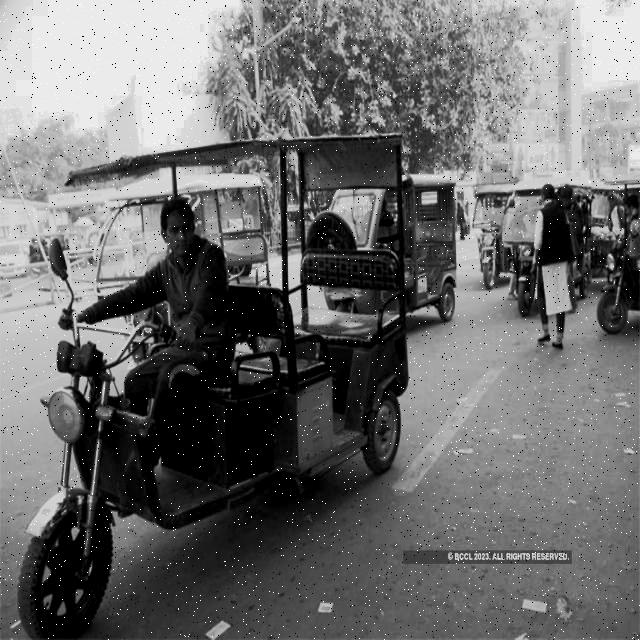Toto: (0, 128, 408, 639), (317, 168, 461, 324), (474, 168, 538, 327), (595, 175, 639, 333)
